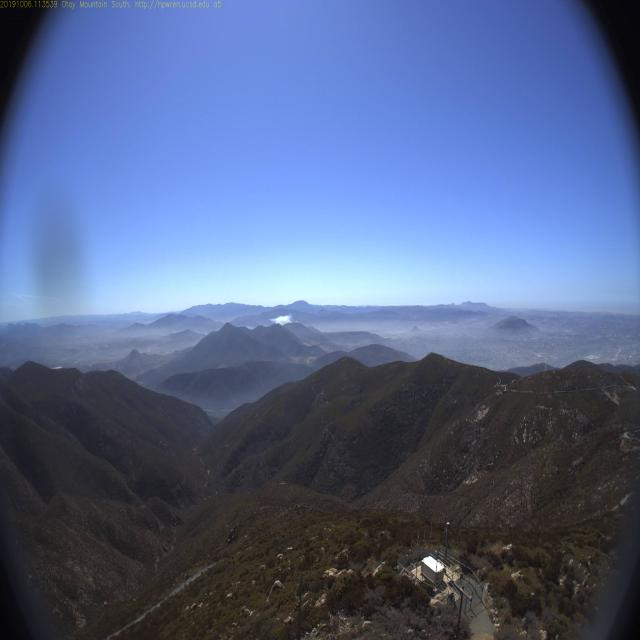smoke: (269, 310, 294, 328)
